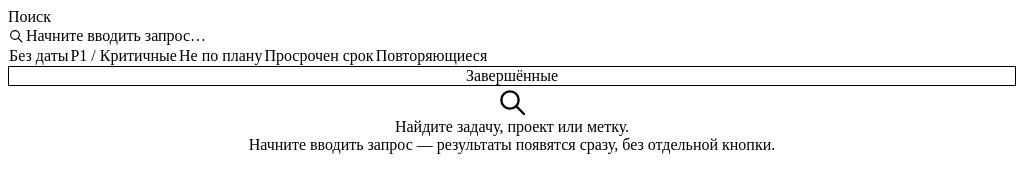
Test case: Search — M35 Results, ранжирование (01§15) › "ничего не найдено" при непустом запросе без совпадений — отдельно от M34
Step 1. Type "несуществующийзапрос" into the field named "Поиск по задачам, проектам и меткам" → (520, 36), box 24,26 -> 1016,46
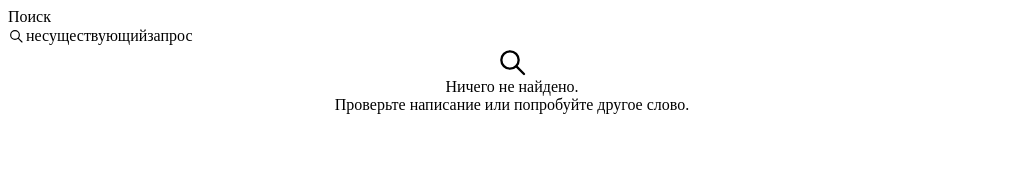
Check: the text "Ничего не найдено." is shown, box 445,78 -> 578,96
Check: the text "Найдите задачу, проект или метку." is gone
